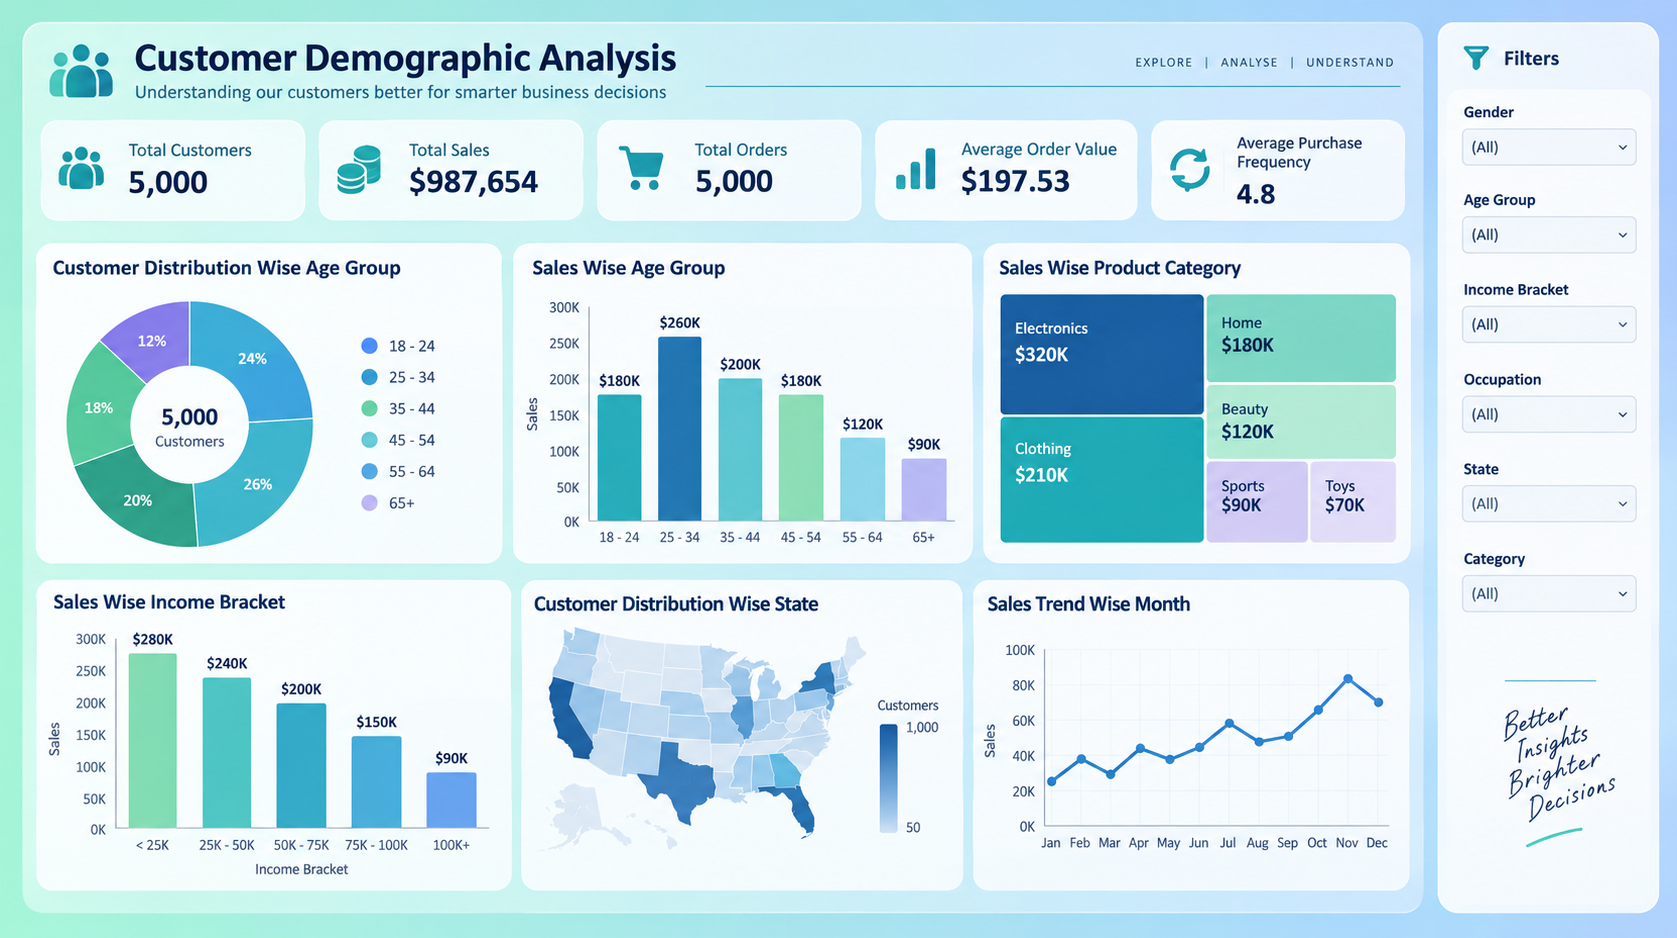

This screenshot's page, from the dashboard's own definition file:
{"tool":"tableau","page":{"name":"overview","canvas":[1155,584],"ordinal":0},"visuals":[{"type":"worksheet","title":"ov-back","mark":"Automatic","box":[12,11,1129,559]},{"type":"image","param":"Image/ChatGPT Image Sep 6, 2026, 12_15_37 AM.png","box":[16,16,1123,552]},{"type":"text","box":[43,28,570,38]},{"type":"text","box":[984,38,80,38]},{"type":"image","param":"Image/ChatGPT Image Sep 6, 2026, 10_59_35 PM.png","box":[954,40,33,33]},{"type":"image","param":"Image/ChatGPT Image Sep 6, 2026, 09_37_10 PM.png","box":[871,85,40,40]},{"type":"image","param":"Image/ChatGPT Image Sep 6, 2026, 09_36_08 PM.png","box":[693,86,43,42]},{"type":"filter","title":"Pie","param":"[federated.12eraa502mebec151dxnt178m906].[none:Gender:nk]","box":[953,87,160,56]},{"type":"image","param":"Image/ChatGPT Image Sep 6, 2026, 09_33_38 PM.png","box":[506,88,43,42]},{"type":"image","param":"Image/ChatGPT Image Sep 6, 2026, 09_29_47 PM.png","box":[333,89,44,41]},{"type":"image","param":"Image/ChatGPT Image Sep 6, 2026, 09_28_12 PM.png","box":[149,90,45,42]},{"type":"worksheet","title":"KPI","mark":"Automatic","box":[31,92,888,61]},{"type":"text","box":[554,94,3,50]},{"type":"text","box":[199,95,3,50]},{"type":"text","box":[380,95,3,50]},{"type":"text","box":[736,95,3,50]},{"type":"filter","title":"tree","param":"[federated.12eraa502mebec151dxnt178m906].[none:AgeGroup:nk]","box":[951,148,160,47]},{"type":"text","box":[335,160,261,31]},{"type":"text","box":[673,161,261,31]},{"type":"text","box":[42,162,261,31]},{"type":"worksheet","title":"map","mark":"Automatic","box":[326,191,323,162]},{"type":"worksheet","title":"Pie","mark":"Pie","cols":["Calculation_0949469778300936","Calculation_0949469778313226"],"box":[39,192,266,168]},{"type":"worksheet","title":"tree","mark":"Automatic","box":[671,198,245,147]},{"type":"filter","title":"bar","param":"[federated.12eraa502mebec151dxnt178m906].[none:IncomeBracket:nk]","box":[954,211,160,46]},{"type":"filter","title":"bar","param":"[federated.12eraa502mebec151dxnt178m906].[none:Category:nk]","box":[952,269,160,58]},{"type":"legend","title":"map","param":"[federated.12eraa502mebec151dxnt178m906].[sum:Amount:qk]","box":[530,294,114,54]},{"type":"filter","title":"line","param":"[federated.12eraa502mebec151dxnt178m906].[none:Occupation:nk]","box":[953,333,160,49]},{"type":"text","box":[39,367,261,31]},{"type":"text","box":[334,367,261,31]},{"type":"text","box":[672,368,261,31]},{"type":"filter","title":"line","param":"[federated.12eraa502mebec151dxnt178m906].[none:State:nk]","box":[957,392,160,48]},{"type":"worksheet","title":"line","mark":"Automatic","rows":["Amount","Amount"],"cols":["PurchaseDate"],"box":[327,396,321,146]},{"type":"worksheet","title":"bar","mark":"Line","rows":["Amount"],"cols":["AgeGroup"],"box":[667,396,247,144]},{"type":"worksheet","title":"col","mark":"Automatic","rows":["IncomeBracket"],"cols":["Amount"],"box":[35,403,274,133]}]}

Visuals, with their boxes on the page's 1155x584 design canvas (x1, y1, x2, y2). These are canvas units, not pixel positions in the 1677x938 screenshot, which may show the page scaled, cropped or inside an application window:
"ov-back" worksheet: 12 11 1141 570
image: 16 16 1139 568
text: 43 28 613 66
text: 984 38 1064 76
image: 954 40 987 73
image: 871 85 911 125
image: 693 86 736 128
"Pie" filter: 953 87 1113 143
image: 506 88 549 130
image: 333 89 377 130
image: 149 90 194 132
"KPI" worksheet: 31 92 919 153
text: 554 94 557 144
text: 199 95 202 145
text: 380 95 383 145
text: 736 95 739 145
"tree" filter: 951 148 1111 195
text: 335 160 596 191
text: 673 161 934 192
text: 42 162 303 193
"map" worksheet: 326 191 649 353
"Pie" worksheet (Pie marks): 39 192 305 360
"tree" worksheet: 671 198 916 345
"bar" filter: 954 211 1114 257
"bar" filter: 952 269 1112 327
"map" legend: 530 294 644 348
"line" filter: 953 333 1113 382
text: 39 367 300 398
text: 334 367 595 398
text: 672 368 933 399
"line" filter: 957 392 1117 440
"line" worksheet: 327 396 648 542
"bar" worksheet (Line marks): 667 396 914 540
"col" worksheet: 35 403 309 536
